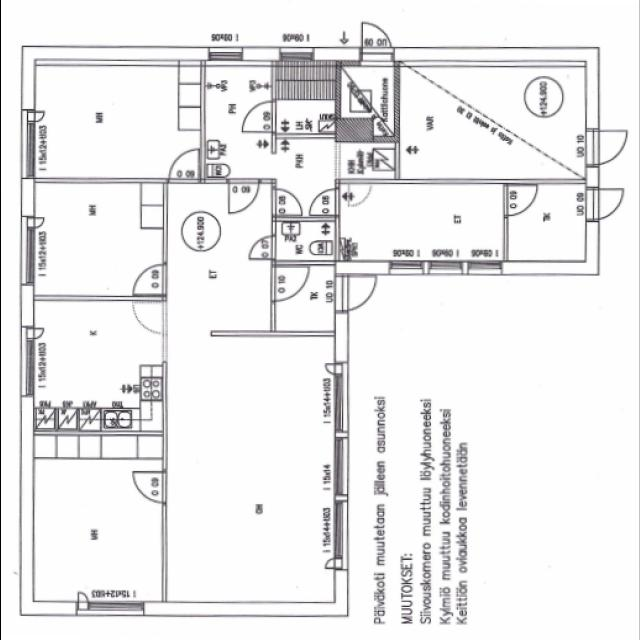door: (329, 269, 381, 315), (357, 20, 397, 71), (267, 264, 311, 306), (496, 178, 540, 220), (127, 466, 171, 504), (238, 96, 277, 138), (162, 144, 202, 182), (128, 260, 167, 297), (128, 300, 166, 336), (226, 175, 258, 217), (308, 188, 342, 220), (270, 186, 302, 220), (244, 232, 276, 264), (344, 176, 374, 210)
window: (75, 591, 143, 625), (322, 497, 350, 571), (15, 214, 41, 289), (16, 109, 42, 182), (18, 322, 39, 401), (328, 363, 350, 434), (328, 436, 352, 496), (468, 256, 509, 282), (205, 41, 247, 65), (383, 260, 421, 282), (280, 44, 318, 65), (428, 255, 464, 275)
